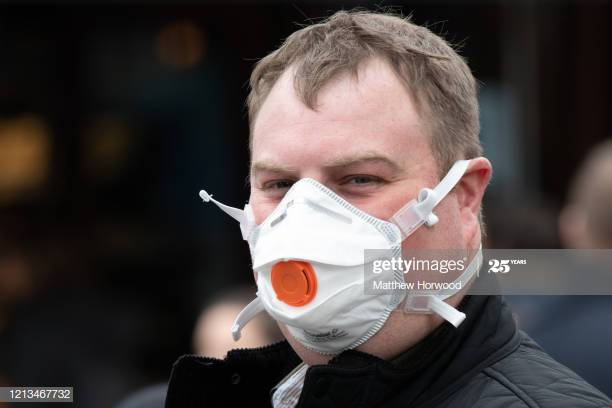n95: (227, 177, 415, 357)
